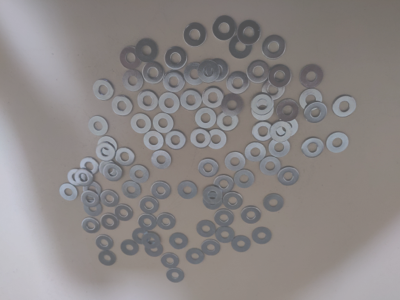circle: (212, 15, 237, 41), (299, 64, 324, 89), (261, 77, 286, 101), (262, 35, 287, 59), (237, 20, 261, 45), (247, 60, 271, 84), (183, 23, 207, 47), (226, 71, 250, 95), (332, 95, 356, 118), (269, 64, 292, 88), (222, 93, 245, 117), (206, 58, 229, 82), (184, 61, 206, 86), (198, 59, 220, 84), (276, 99, 299, 122), (300, 88, 323, 111), (164, 47, 187, 70), (229, 36, 252, 59), (251, 93, 275, 115), (136, 38, 158, 62), (327, 131, 350, 153), (252, 98, 274, 121), (180, 89, 203, 111), (120, 46, 142, 69), (143, 62, 165, 84), (163, 71, 185, 93), (304, 102, 327, 123), (205, 129, 228, 150), (217, 111, 240, 132), (159, 91, 180, 114), (122, 69, 143, 92), (302, 137, 324, 158), (270, 121, 292, 142), (269, 137, 291, 158), (93, 79, 114, 101), (112, 95, 133, 117), (165, 130, 187, 151), (195, 108, 217, 129), (202, 87, 224, 108), (153, 112, 174, 134), (137, 90, 159, 111), (214, 174, 235, 195), (252, 121, 273, 142), (131, 113, 152, 134), (278, 167, 300, 187), (190, 129, 212, 149), (245, 142, 266, 162), (234, 169, 255, 189), (198, 158, 219, 178), (177, 180, 198, 200), (97, 136, 118, 156), (88, 116, 109, 136), (260, 157, 282, 176), (224, 152, 246, 171), (277, 118, 299, 137), (144, 131, 164, 151), (152, 150, 172, 170), (241, 206, 262, 225), (263, 194, 284, 213), (202, 185, 223, 204), (202, 191, 223, 210), (129, 165, 150, 184), (114, 148, 136, 166), (151, 181, 171, 200), (121, 180, 141, 199), (83, 180, 103, 199), (96, 143, 116, 162), (80, 157, 99, 176), (252, 227, 272, 245), (214, 209, 234, 227), (223, 192, 243, 210), (67, 169, 87, 187), (157, 213, 176, 231), (216, 226, 235, 244), (140, 196, 159, 214), (75, 169, 94, 187), (104, 164, 123, 182), (99, 160, 118, 178), (197, 221, 217, 238), (100, 190, 120, 207), (101, 214, 120, 231), (114, 205, 133, 222), (138, 214, 157, 231), (232, 236, 251, 253), (84, 200, 103, 217), (60, 184, 79, 201), (143, 232, 161, 249), (170, 233, 188, 250), (99, 251, 118, 267), (202, 240, 221, 256), (81, 191, 100, 207), (83, 218, 100, 235), (121, 240, 139, 256), (96, 235, 114, 251), (186, 249, 205, 264), (133, 229, 150, 245), (167, 268, 185, 283), (162, 254, 180, 269), (145, 243, 163, 258)
